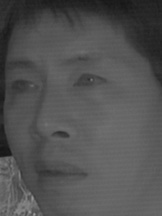eye: (71, 70, 109, 95), (6, 77, 41, 99)
mouth: (30, 153, 90, 191)
